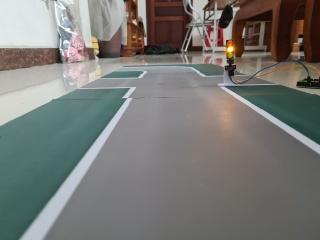yellow: (220, 35, 242, 65)
